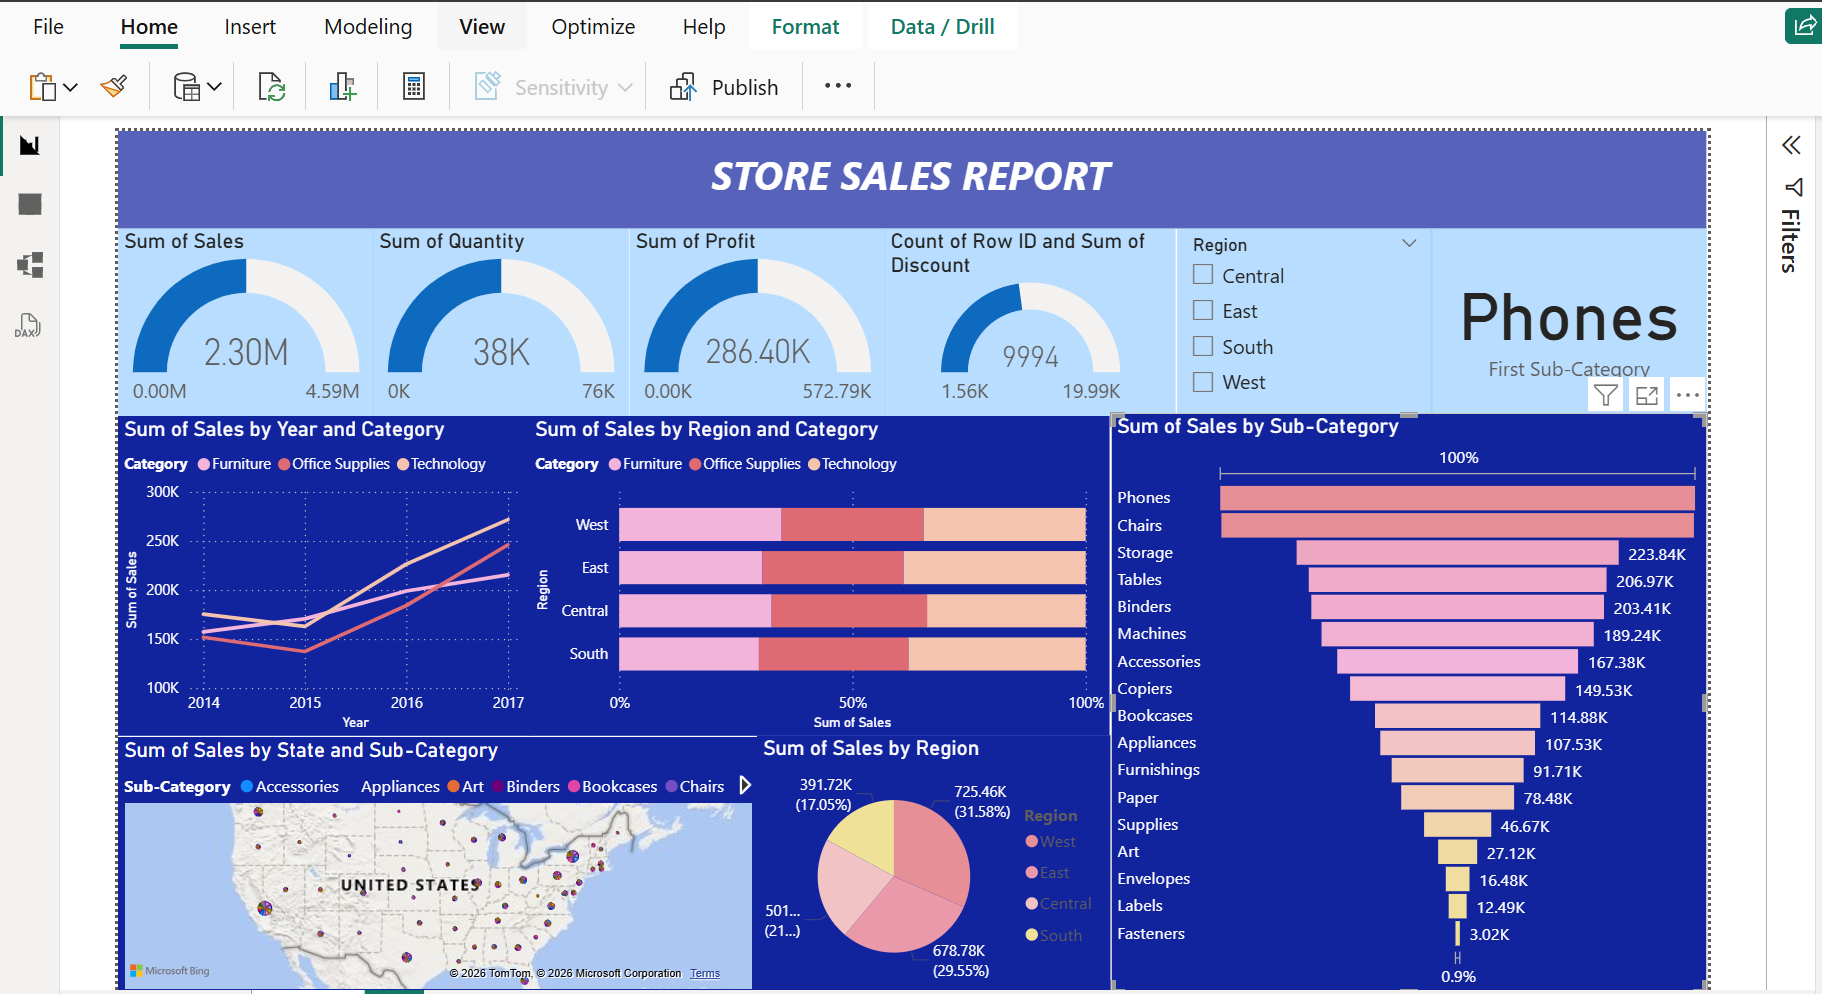

This screenshot's page, from the dashboard's own definition file:
{"tool":"powerbi","page":{"name":"Page 1","canvas":[1292,702],"ordinal":0},"visuals":[{"type":"textbox","box":[0,0,1291.5,79.5],"z":0},{"type":"gauge","fields":{"Y":["Sum(Orders.Sales)"]},"box":[0,79.5,207.9,152.8],"z":1000},{"type":"gauge","fields":{"Y":["Sum(Orders.Quantity)"]},"box":[207.9,79.5,207.9,152.8],"z":2000},{"type":"gauge","fields":{"Y":["Sum(Orders.Profit)"]},"box":[415.7,79.5,207.9,152.8],"z":3000},{"type":"gauge","fields":{"Y":["CountNonNull(Orders.Row ID)"],"MinValue":["Sum(Orders.Discount)"]},"box":[623.6,79.5,236.9,152.8],"z":4000},{"type":"card","fields":{"Values":["Min(Orders.Sub-Category)"]},"box":[1066.8,79.5,224.7,149.8],"z":5000},{"type":"slicer","fields":{"Values":["Orders.Region"]},"box":[860.5,79.5,207.9,151.3],"z":6000},{"type":"map","fields":{"Category":["Orders.State","Orders.Country"],"Size":["Sum(Orders.Sales)"],"Series":["Orders.Sub-Category"]},"box":[0,492.1,519.7,209.4],"z":7000},{"type":"hundredPercentStackedBarChart","fields":{"Category":["Orders.Region"],"Y":["Sum(Orders.Sales)"],"Series":["Orders.Category"]},"box":[334.7,232.3,472.3,259.8],"z":8000},{"type":"lineChart","fields":{"Category":["Orders.Order Date.Variation.Date Hierarchy.Year","Orders.Order Date.Variation.Date Hierarchy.Quarter","Orders.Order Date.Variation.Date Hierarchy.Month","Orders.Order Date.Variation.Date Hierarchy.Day"],"Y":["Sum(Orders.Sales)"],"Series":["Orders.Category"]},"box":[0,232.3,334.7,259.8],"z":9000},{"type":"funnel","fields":{"Category":["Orders.Sub-Category"],"Y":["Sum(Orders.Sales)"]},"box":[807,229.3,484.5,472.3],"z":10000},{"type":"pieChart","fields":{"Category":["Orders.Region"],"Y":["Sum(Orders.Sales)"]},"box":[520,492,287,209],"z":11000}]}

Visuals, with their boxes on the page's 1292x702 design canvas (x1, y1, x2, y2). These are canvas units, not pixel positions in the 1822x994 screenshot, which may show the page scaled, cropped or inside an application window:
textbox: [left=0, top=0, right=1292, bottom=80]
gauge - Sum(Orders.Sales): [left=0, top=80, right=208, bottom=232]
gauge - Sum(Orders.Quantity): [left=208, top=80, right=416, bottom=232]
gauge - Sum(Orders.Profit): [left=416, top=80, right=624, bottom=232]
gauge - CountNonNull(Orders.Row ID) x Sum(Orders.Discount): [left=624, top=80, right=860, bottom=232]
card - Min(Orders.Sub-Category): [left=1067, top=80, right=1292, bottom=229]
slicer - Orders.Region: [left=860, top=80, right=1068, bottom=231]
map - Orders.State x Orders.Country: [left=0, top=492, right=520, bottom=702]
hundredPercentStackedBarChart - Orders.Region x Sum(Orders.Sales): [left=335, top=232, right=807, bottom=492]
lineChart - Orders.Order Date.Variation.Date Hierarchy.Year x Orders.Order Date.Variation.Date Hierarchy.Quarter: [left=0, top=232, right=335, bottom=492]
funnel - Orders.Sub-Category x Sum(Orders.Sales): [left=807, top=229, right=1292, bottom=702]
pieChart - Orders.Region x Sum(Orders.Sales): [left=520, top=492, right=807, bottom=701]
